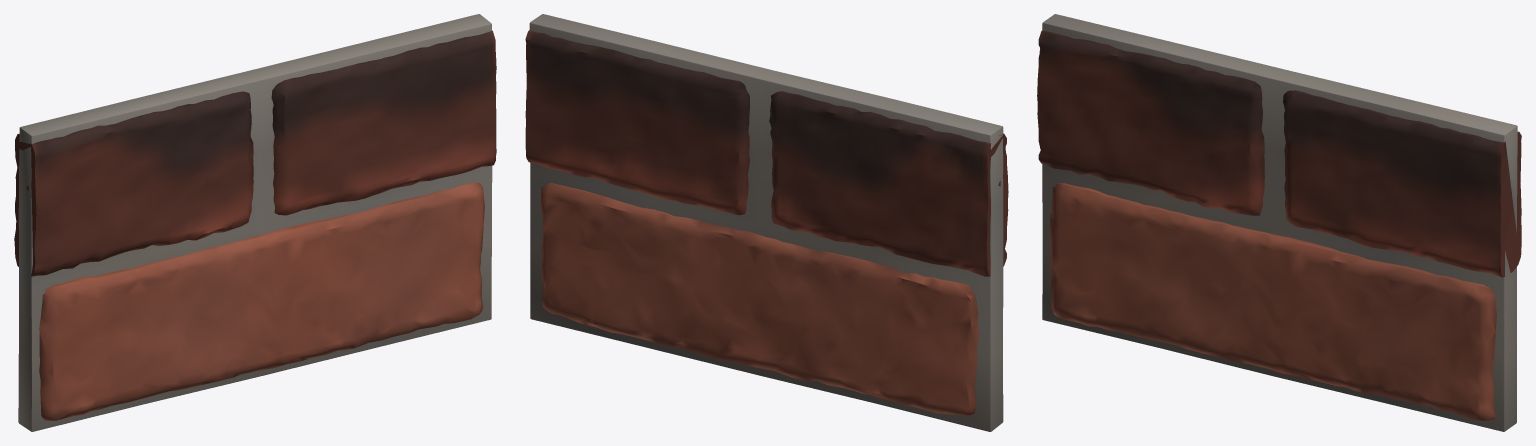
The model's file is ember_brick_wall_d.glb.
The picture shows the model from 3 angles, left to right: view 1: azimuth 30°, elevation 25°; view 2: azimuth 150°, elevation 25°; view 3: azimuth 330°, elevation 25°; orthographic projection.
Parts seen in each view (by area): view 1: ember_brick_wall_d; view 2: ember_brick_wall_d; view 3: ember_brick_wall_d.
Part boxes in pixels (x1,y1,x2,y2): ember_brick_wall_d: (14,14,496,431); ember_brick_wall_d: (525,14,1008,431); ember_brick_wall_d: (1037,14,1521,431).
Bounding box in the file's own units: 65.15 × 40.14 × 5.66.
